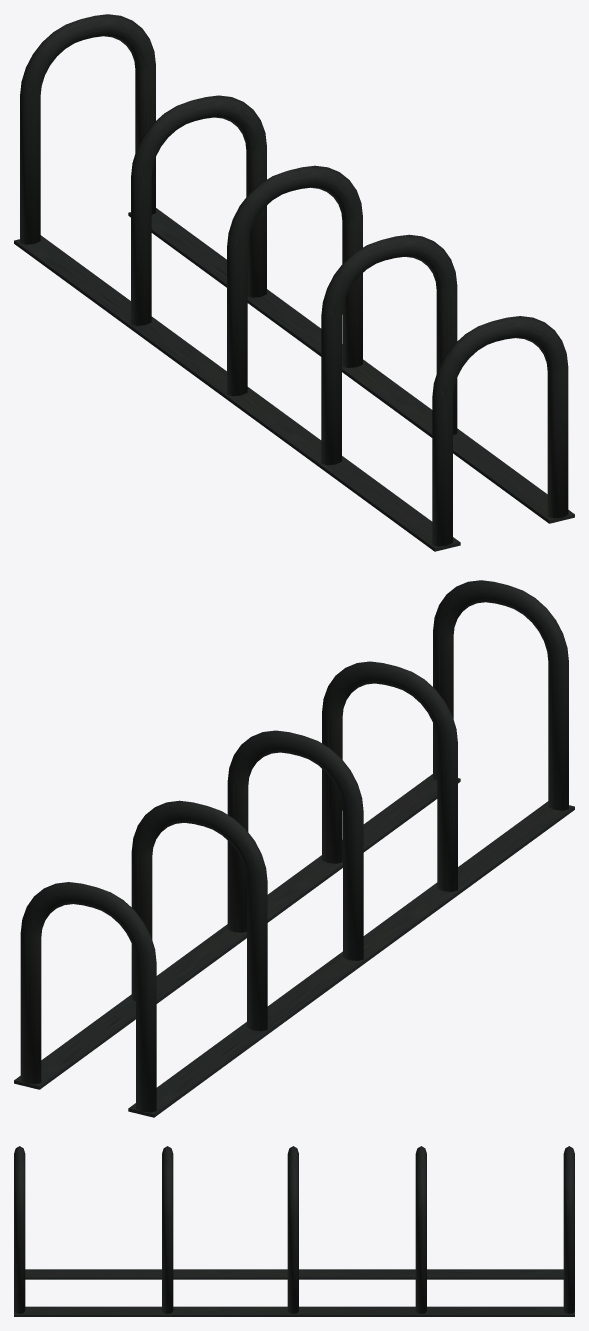
The model's file is Bike_Rack.fbx.
The picture shows the model from 3 angles, top to bottom: view 1: azimuth 30°, elevation 25°; view 2: azimuth 150°, elevation 25°; view 3: azimuth 270°, elevation 25°; orthographic projection. The views are drawn at different scales.
Visible parts, largest first — view 1: Moreland Bike Racks.003; view 2: Moreland Bike Racks.003; view 3: Moreland Bike Racks.003.
Boxes of the visible parts, x1,y1,x2,y2 form: Moreland Bike Racks.003: (14, 14, 574, 551); Moreland Bike Racks.003: (14, 580, 574, 1117); Moreland Bike Racks.003: (14, 1146, 574, 1316).
Size of the model in its own units: 58.43 by 304 by 84.6.
Materials: 1 (1 with a texture image).
